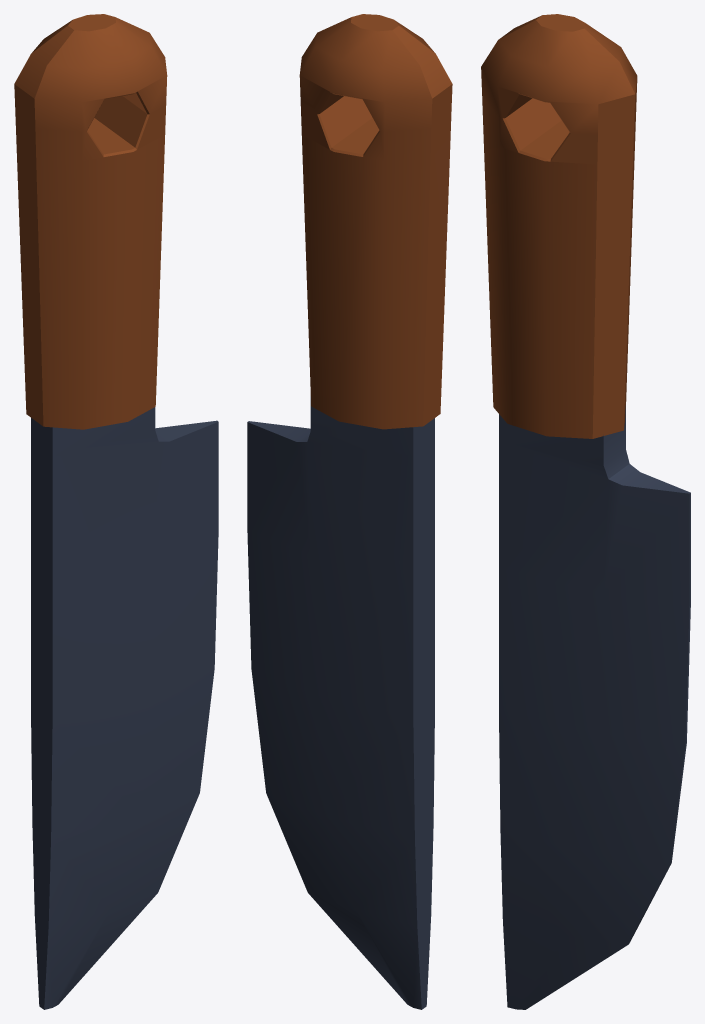
The model's file is knife.fbx.
3 views of the same model, side by side, from view 1: azimuth 30°, elevation 25°; view 2: azimuth 150°, elevation 25°; view 3: azimuth 330°, elevation 25° (orthographic). The views are drawn at different scales.
Visible parts, largest first — view 1: Cylinder003; view 2: Cylinder003; view 3: Cylinder003.
Part boxes in pixels (box(x1,y1,x2,y2)): Cylinder003: box(14, 14, 218, 1009); Cylinder003: box(247, 14, 452, 1009); Cylinder003: box(481, 14, 690, 1009).
Bounding box in the file's own units: 16.57 × 79.45 × 8.63.
